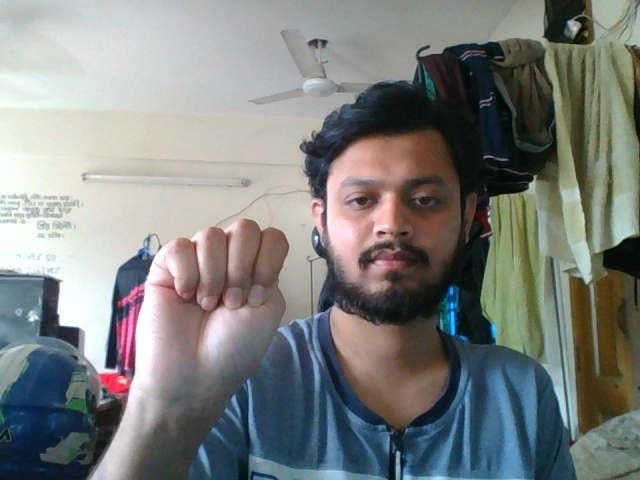to: (128, 215, 293, 425)
